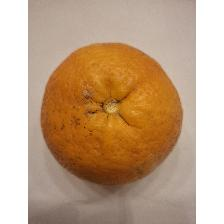Orange: (39, 40, 185, 188)
